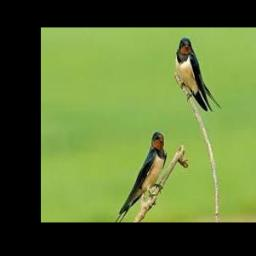Swallow: (115, 131, 167, 222), (174, 37, 220, 112)
